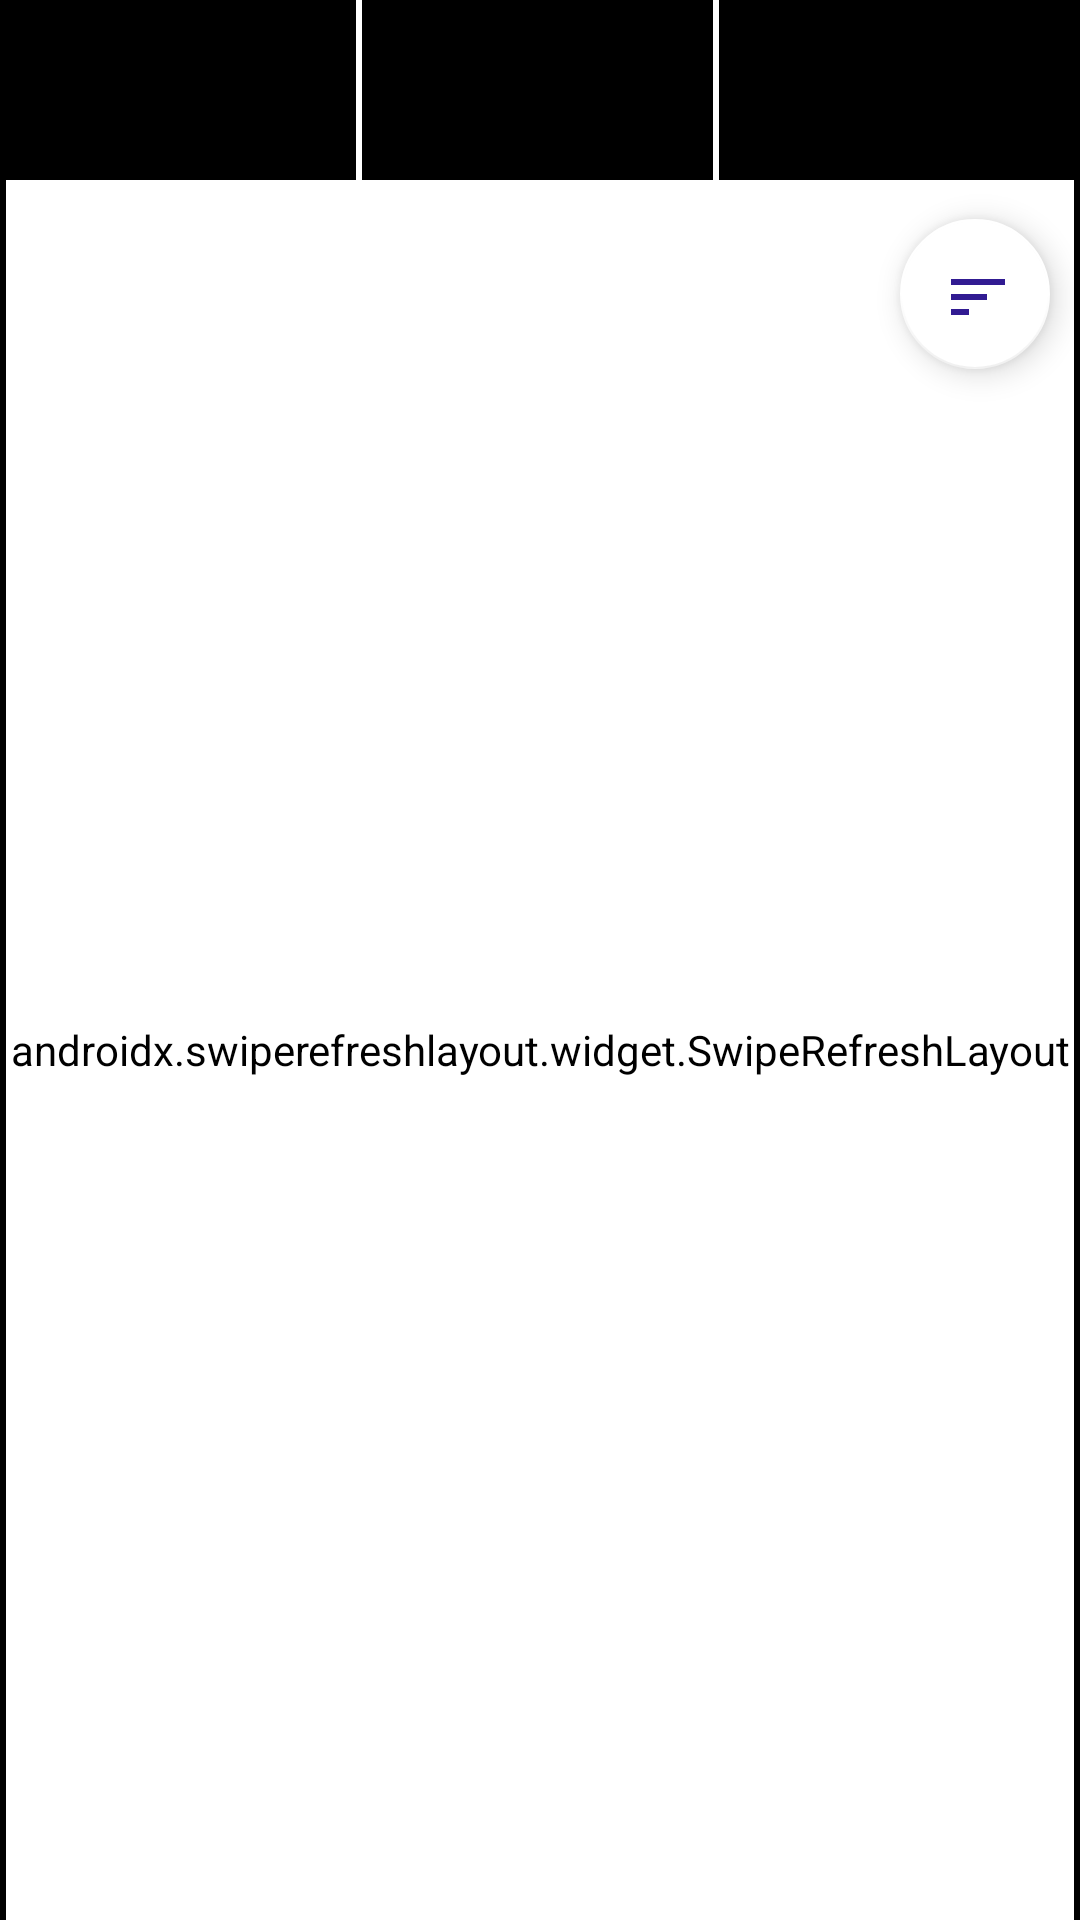

Icon bounding boxes for this 1080px×1920px phone screenshot, format (x1, y1, x2, y2):
search order: (951, 254, 1050, 369)
